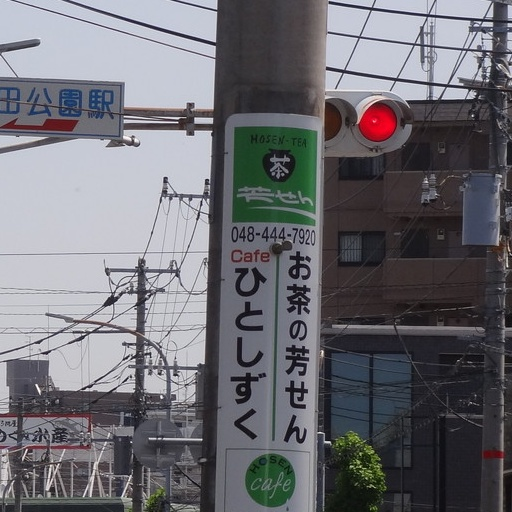Traffic_Signal_Red: (308, 89, 416, 150)
